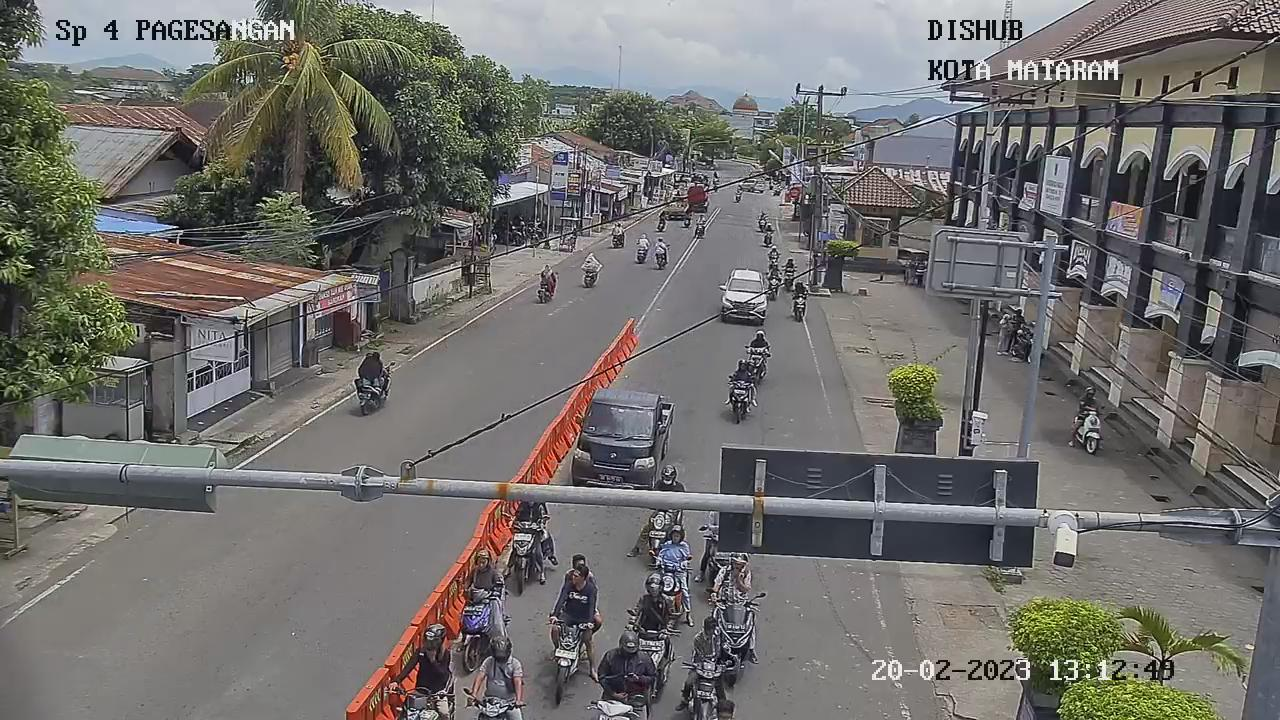car: (713, 262, 772, 327)
motorcycle: (540, 612, 595, 707), (705, 587, 760, 682), (451, 582, 506, 674), (501, 512, 555, 595), (627, 612, 678, 687), (674, 651, 724, 720), (648, 549, 696, 617), (721, 374, 758, 426), (643, 502, 675, 556), (1078, 400, 1107, 454), (705, 533, 735, 582), (742, 344, 773, 386), (787, 289, 810, 322), (765, 268, 784, 299), (781, 264, 798, 292), (762, 229, 777, 250), (766, 251, 782, 265)
person: (587, 625, 659, 699), (395, 621, 457, 698), (470, 635, 524, 708), (631, 571, 682, 647), (548, 552, 600, 624), (704, 549, 759, 615), (463, 543, 505, 614), (650, 519, 694, 582), (681, 614, 726, 673), (352, 347, 387, 389), (726, 357, 755, 388), (1077, 385, 1102, 414), (748, 329, 773, 357), (537, 262, 559, 288), (581, 250, 599, 276), (792, 280, 812, 301), (766, 261, 782, 284), (654, 235, 670, 257), (781, 255, 797, 274), (767, 242, 780, 265), (694, 211, 708, 228), (635, 233, 648, 251), (762, 223, 775, 239), (610, 222, 623, 237)
truck: (568, 382, 675, 488)
